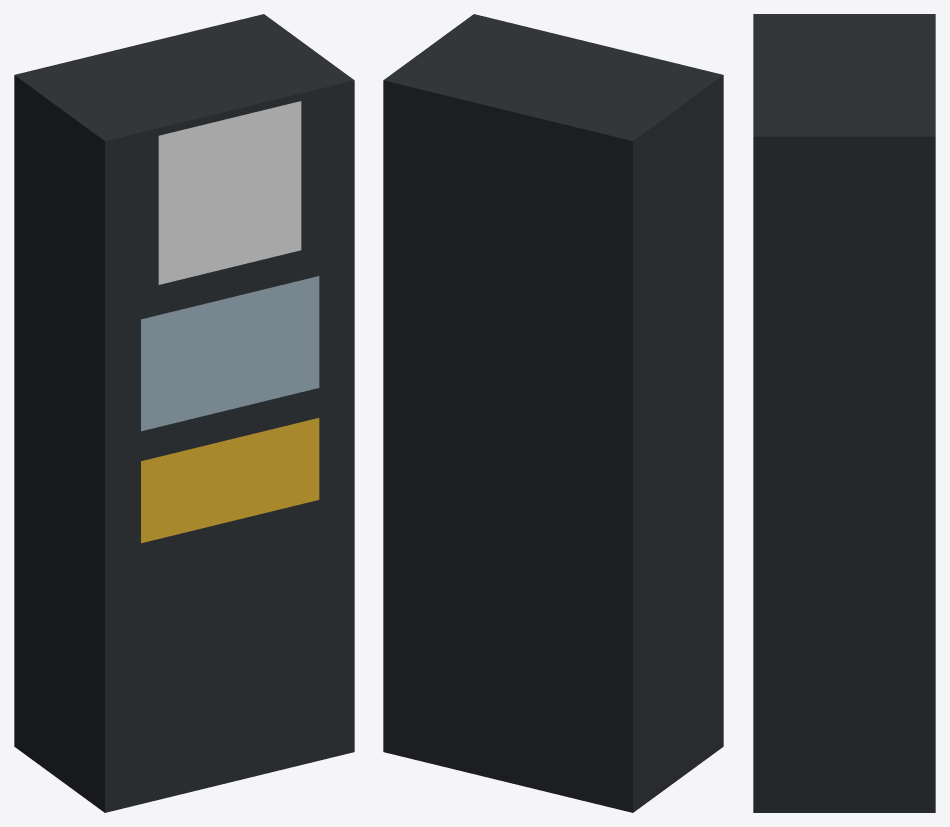
Rendered from pay_station.glb.
3 renders of one model, left to right at view 1: azimuth 30°, elevation 25°; view 2: azimuth 150°, elevation 25°; view 3: azimuth 270°, elevation 25°, orthographic.
Visible parts, largest first — view 1: pay_station; view 2: pay_station; view 3: pay_station.
Part boxes in pixels (box(x1,y1,x2,y2)): pay_station: box(14, 14, 354, 812); pay_station: box(383, 14, 723, 812); pay_station: box(753, 14, 935, 812).
Bounding box in the file's own units: 0.7 × 1.8 × 0.442.
